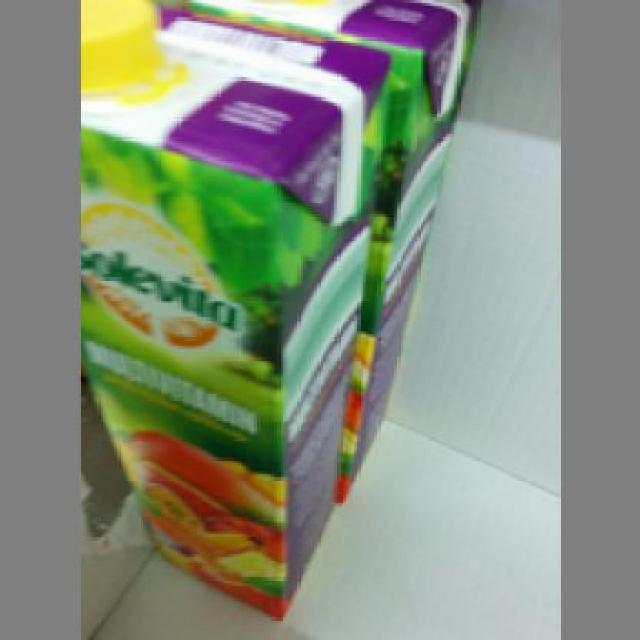Juice: (74, 0, 394, 620)
